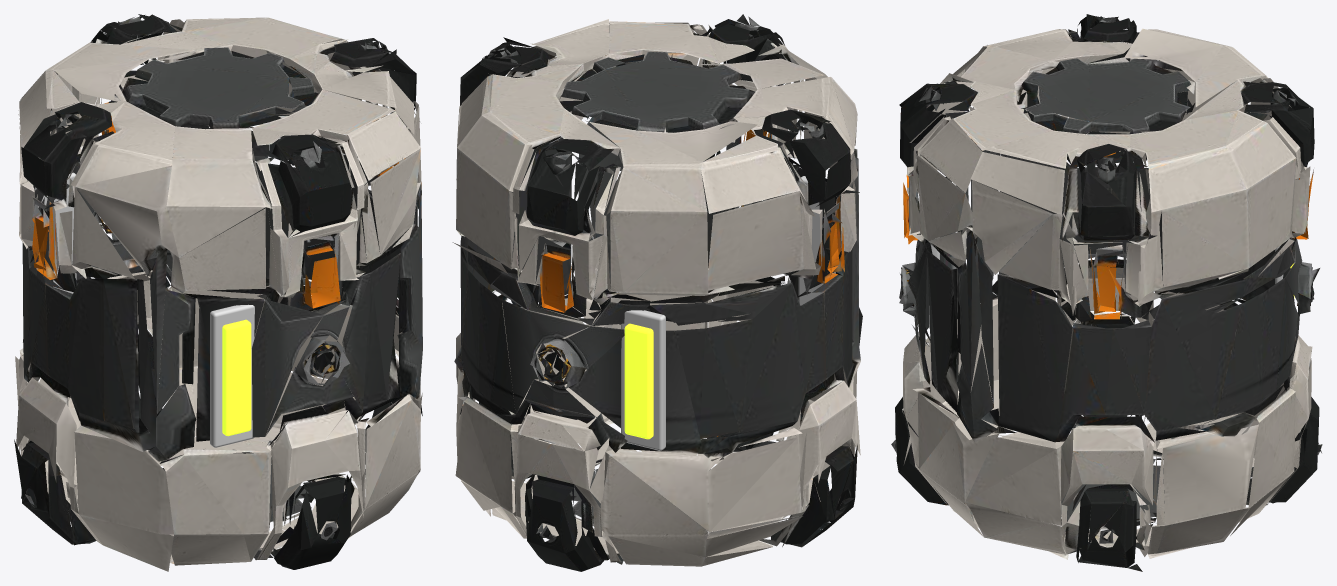
3 views of the same model, side by side, from view 1: azimuth 30°, elevation 25°; view 2: azimuth 150°, elevation 25°; view 3: azimuth 270°, elevation 25° (orthographic). The views are drawn at different scales.
Visible parts, largest first — view 1: capsule_body_00, capsule_core_-1, capsule_gasket_-1, capsule_gasket_1; view 2: capsule_body_00, capsule_core_1, capsule_gasket_1, capsule_gasket_-1; view 3: capsule_body_00.
Part boxes in pixels (x1,y1,x2,y2): capsule_body_00: (14,14,422,571); capsule_core_-1: (222,319,251,436); capsule_gasket_-1: (210,304,255,447); capsule_gasket_1: (34,172,76,293); capsule_body_00: (452,14,862,571); capsule_core_1: (624,323,653,439); capsule_gasket_1: (621,310,665,450); capsule_gasket_-1: (798,176,837,305); capsule_body_00: (891,14,1322,571).
Bounding box in the file's own units: 0.9656 × 1.03 × 0.9591.
Materials: 3 (1 with a texture image).
